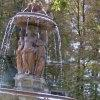Statue: (8, 5, 67, 90)
